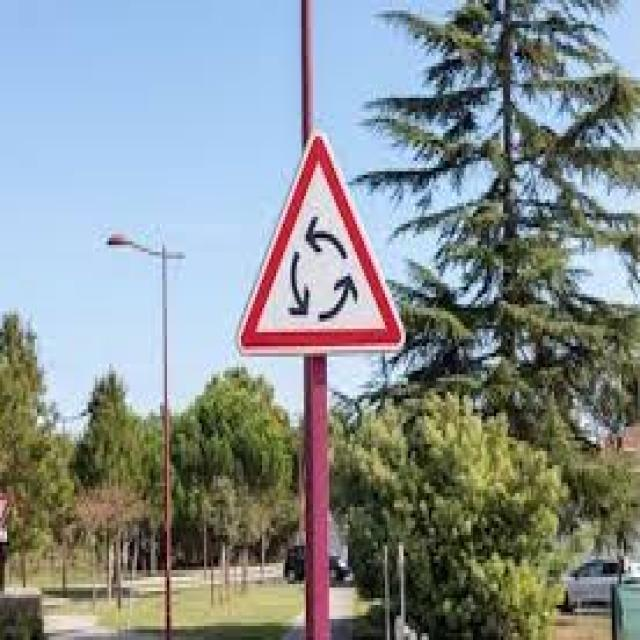SensGiratoire: (234, 127, 412, 359)
